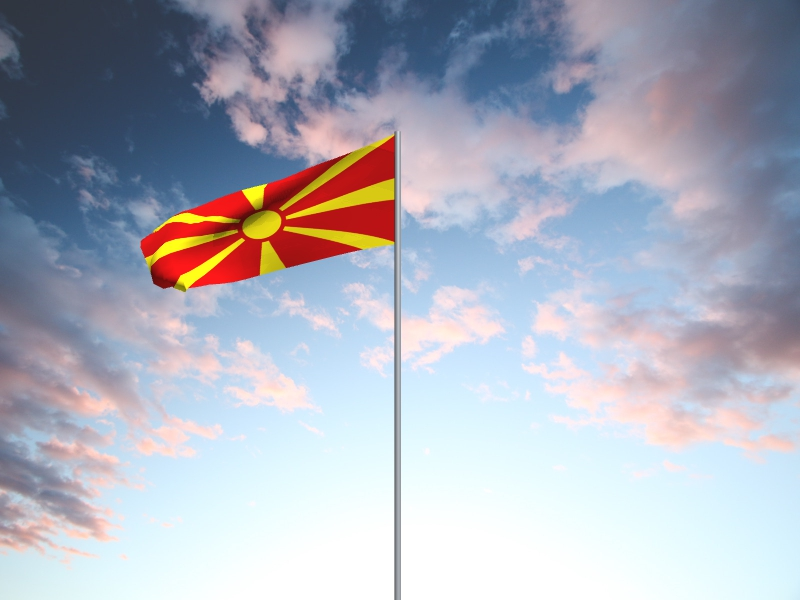mk: (139, 134, 395, 294)
